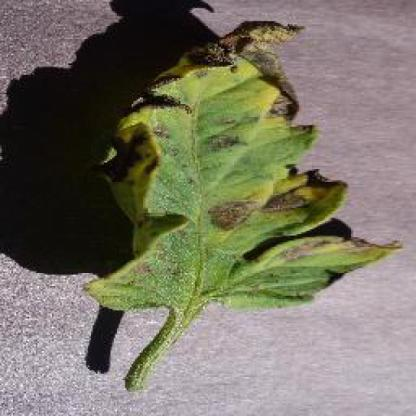Tomato_Blight: (83, 22, 403, 313)
